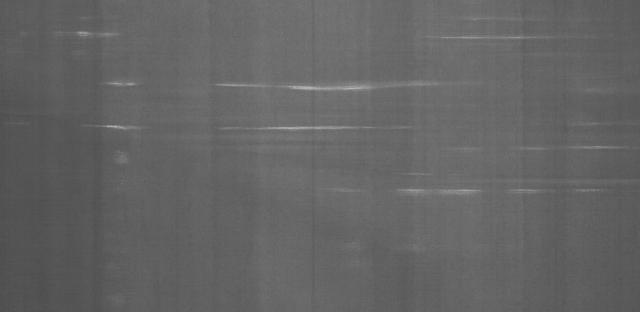waist_folding: (62, 17, 572, 277)
